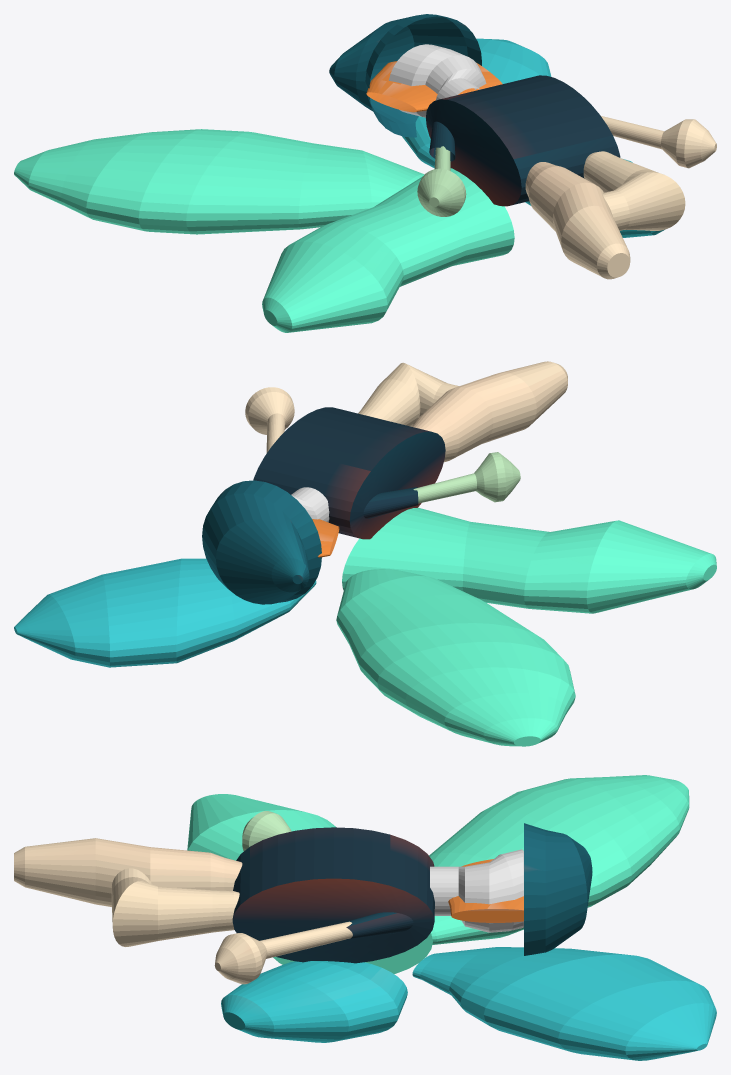
File: fairy.gltf
3 views of the same model, one above another, from view 1: azimuth 30°, elevation 25°; view 2: azimuth 150°, elevation 25°; view 3: azimuth 270°, elevation 25° (orthographic). The views are drawn at different scales.
Parts seen in each view (by area): view 1: 円.006, 円.005, 円.003, 円.001, 円.012, 円.002, 円.004, 円.007, 円.009, 円.010, 円.011; view 2: 円.006, 円.005, 円.007, 円.003, 円.012, 円.001, 円.002, 円.010, 円.009, 円.004, 円.011; view 3: 円.007, 円.003, 円.006, 円.008, 円.001, 円.012, 円.002, 円.005, 円.004, 円.009, 円.011, 円.010.
Boxes of the visible parts, x1=… form: 円.006: x1=14, y1=129, x2=424, y2=234; 円.005: x1=262, y1=168, x2=514, y2=332; 円.003: x1=426, y1=75, x2=620, y2=206; 円.001: x1=525, y1=162, x2=630, y2=279; 円.012: x1=329, y1=14, x2=481, y2=137; 円.002: x1=583, y1=151, x2=685, y2=230; 円.004: x1=388, y1=44, x2=486, y2=117; 円.007: x1=402, y1=38, x2=551, y2=168; 円.009: x1=601, y1=116, x2=716, y2=168; 円.010: x1=417, y1=146, x2=466, y2=216; 円.011: x1=366, y1=61, x2=502, y2=112; 円.006: x1=336, y1=569, x2=575, y2=746; 円.005: x1=342, y1=507, x2=716, y2=613; 円.007: x1=14, y1=558, x2=316, y2=667; 円.003: x1=253, y1=407, x2=445, y2=539; 円.012: x1=202, y1=480, x2=321, y2=604; 円.001: x1=412, y1=361, x2=567, y2=462; 円.002: x1=358, y1=362, x2=458, y2=426; 円.010: x1=413, y1=452, x2=520, y2=503; 円.009: x1=245, y1=387, x2=294, y2=453; 円.004: x1=291, y1=487, x2=329, y2=522; 円.011: x1=312, y1=519, x2=339, y2=557; 円.007: x1=412, y1=947, x2=716, y2=1060; 円.003: x1=232, y1=827, x2=434, y2=963; 円.006: x1=429, y1=775, x2=689, y2=944; 円.008: x1=221, y1=961, x2=407, y2=1042; 円.001: x1=14, y1=838, x2=242, y2=906; 円.012: x1=524, y1=823, x2=592, y2=955; 円.002: x1=111, y1=868, x2=239, y2=946; 円.005: x1=187, y1=794, x2=432, y2=973; 円.004: x1=430, y1=849, x2=523, y2=932; 円.009: x1=214, y1=921, x2=352, y2=984; 円.011: x1=448, y1=859, x2=523, y2=922; 円.010: x1=242, y1=811, x2=291, y2=851.
Bounding box in the file's own units: 2.33 × 0.6857 × 2.6.
1 material, 1 textured.
